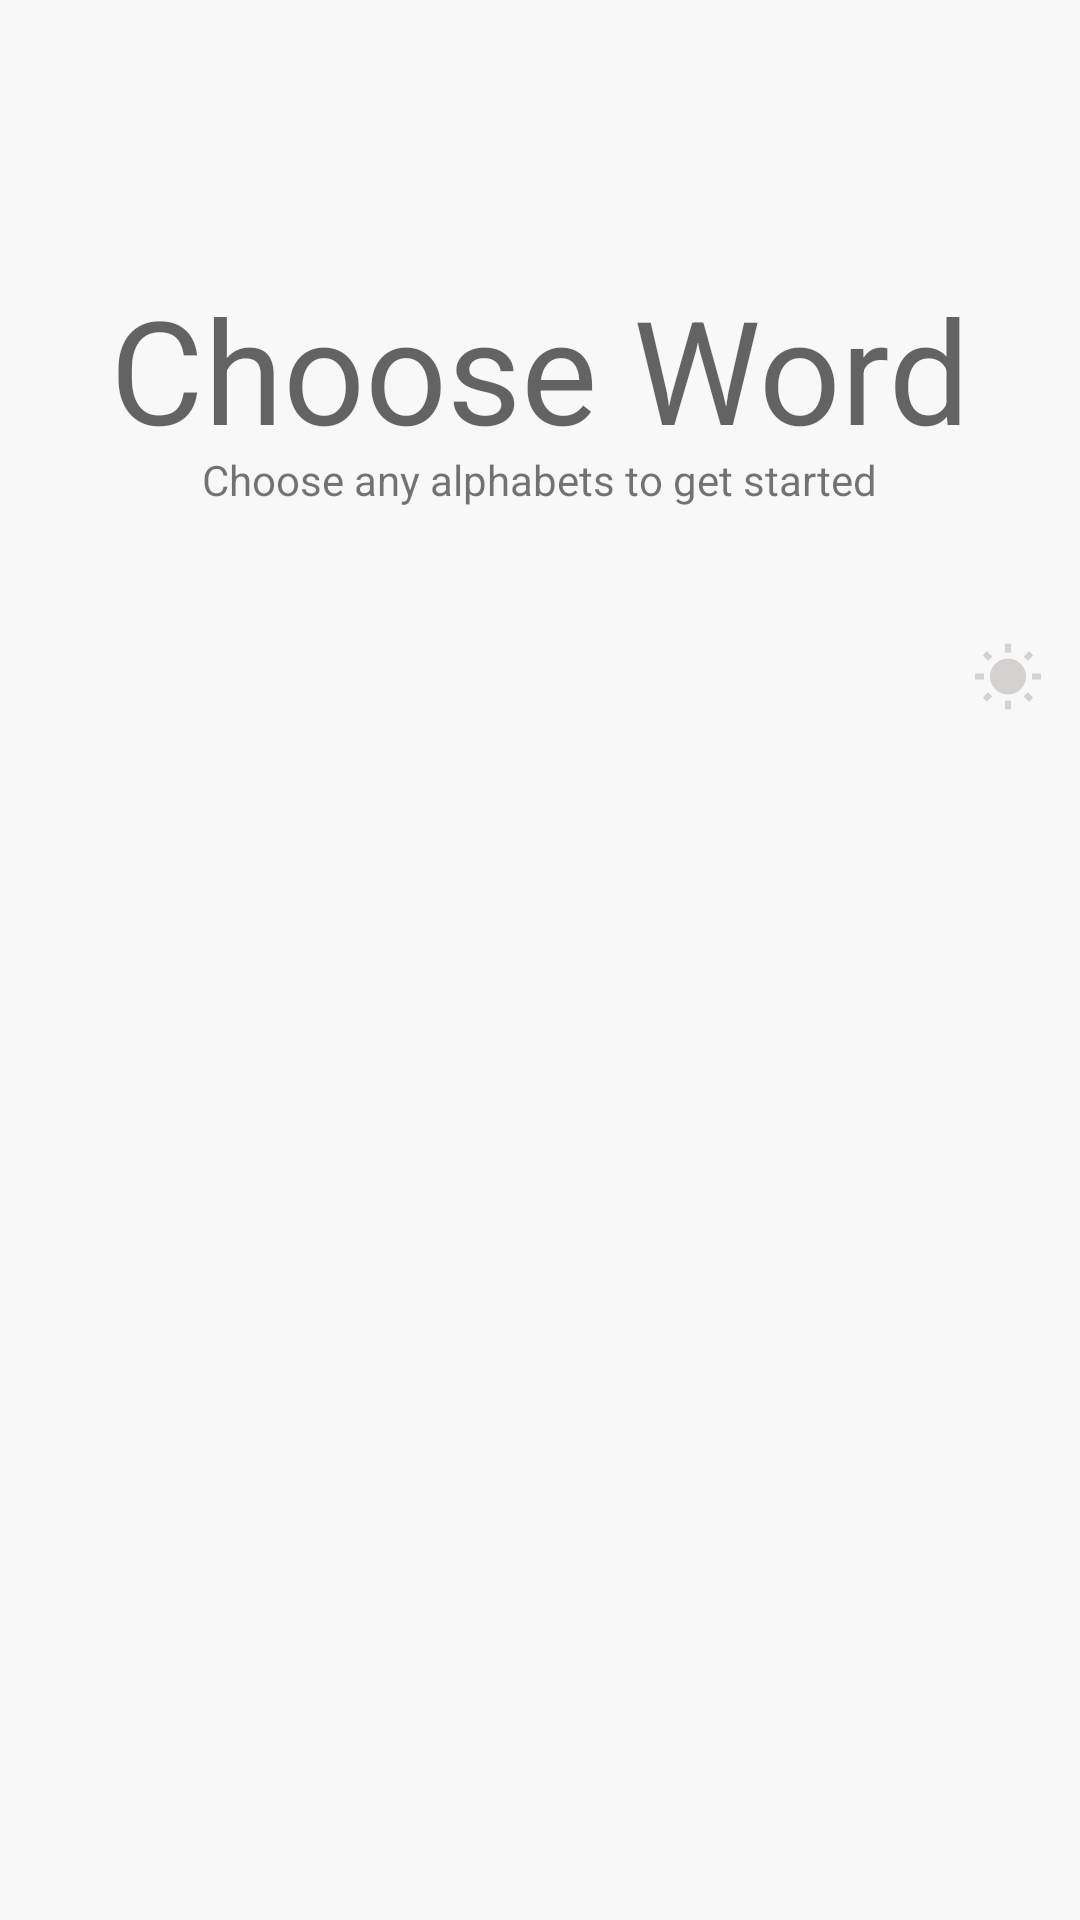

Named icons in this screenshot (1080x1920) and their bounding boxes, (x1, y1, x2, y2):
sunny: (975, 644, 1041, 709)
